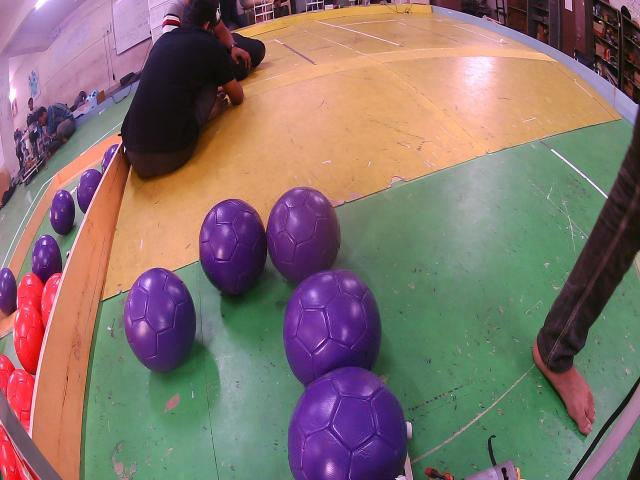jambhalya: (289, 366, 409, 479), (283, 270, 381, 386), (124, 268, 196, 372), (267, 187, 339, 283), (200, 200, 267, 296), (32, 235, 62, 283), (50, 190, 75, 235), (77, 169, 102, 213), (0, 268, 17, 315), (101, 144, 119, 173)
